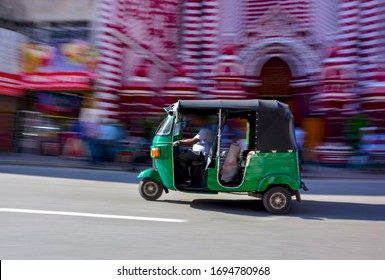threewheel: (135, 98, 311, 214)
